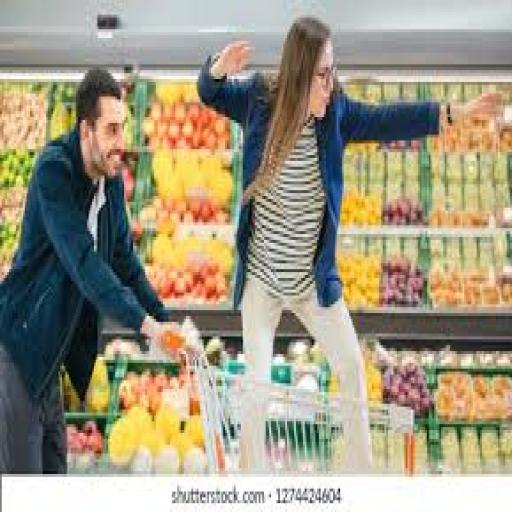shopping_cart: (164, 332, 416, 475)
